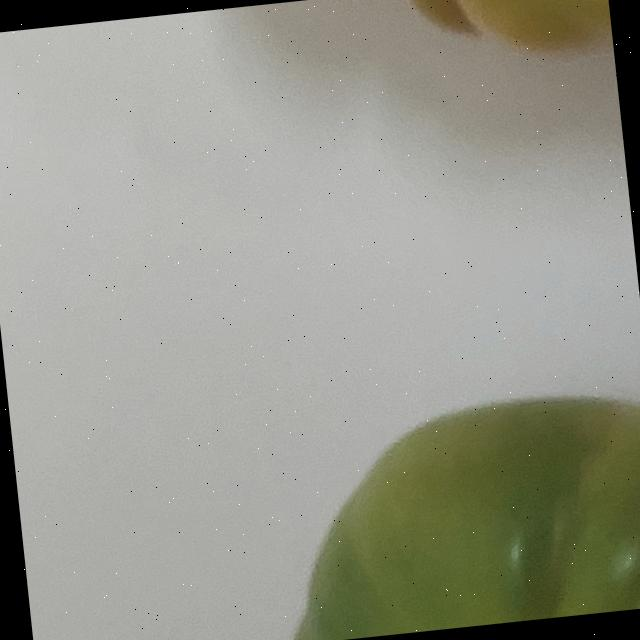tomato: (126, 294, 640, 640)
